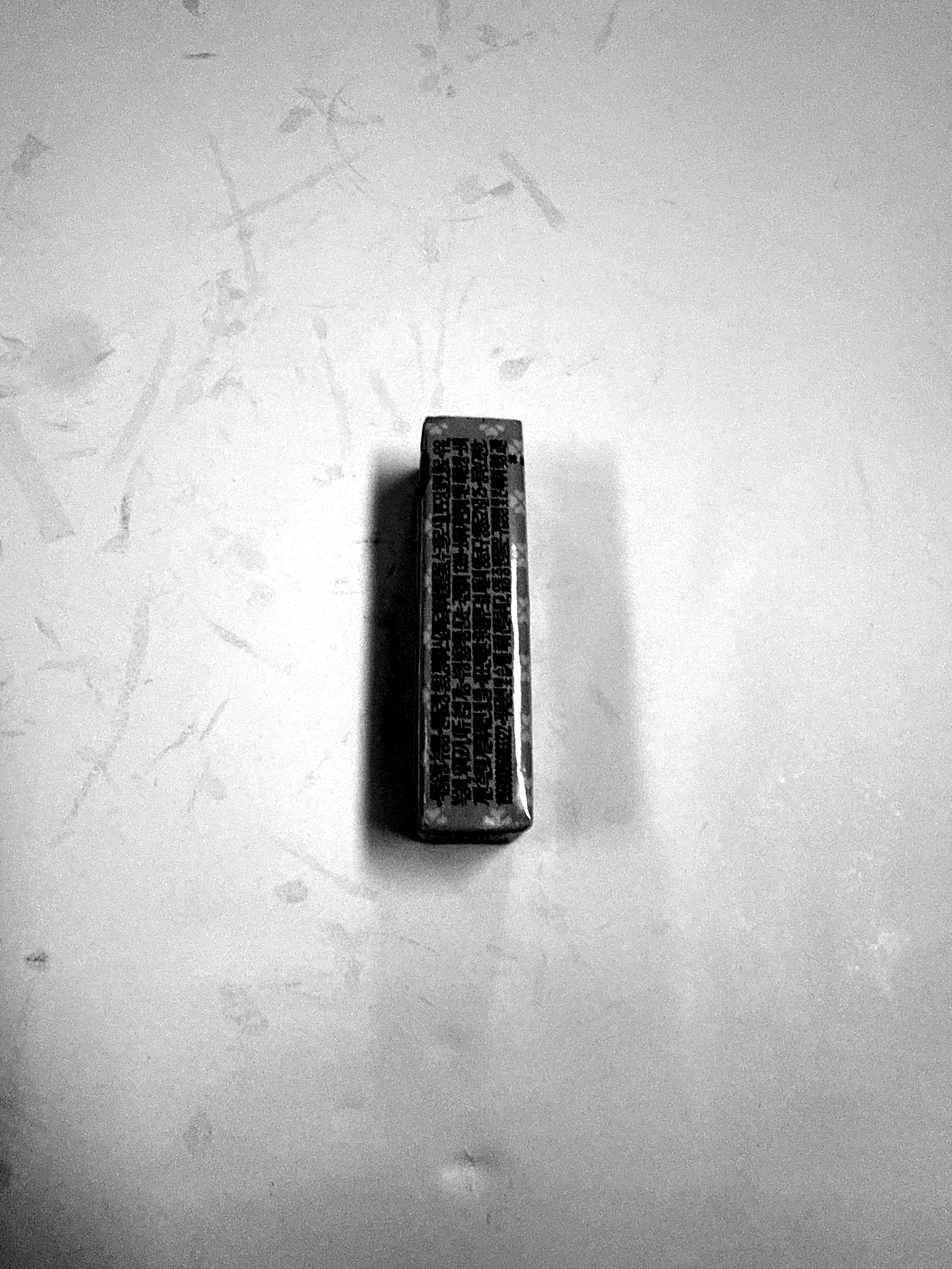gum_yellow: (417, 415, 527, 848)
